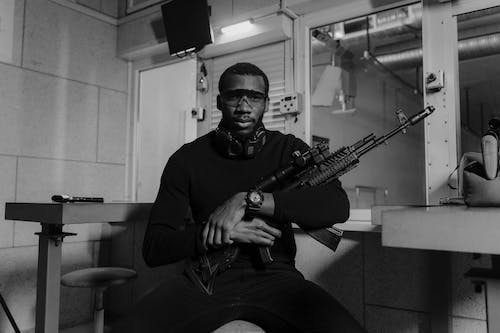gun: (178, 103, 436, 299)
